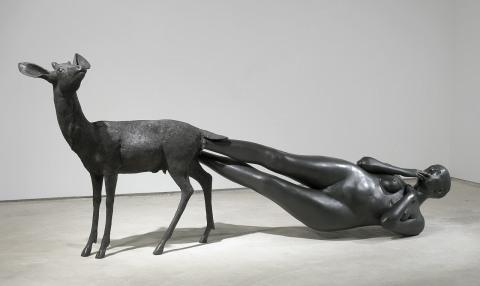person: (197, 136, 455, 241)
